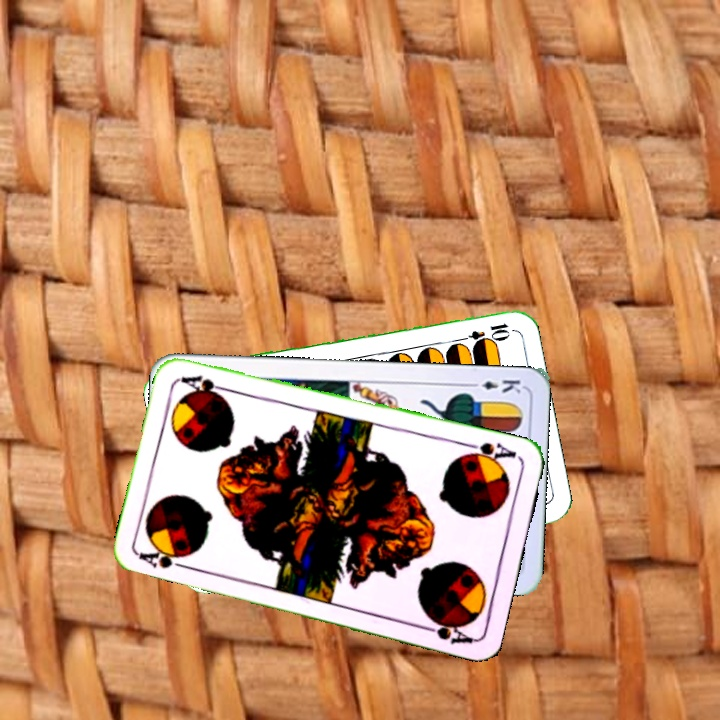E10: (453, 319, 512, 346)
EK: (465, 375, 524, 396)
SA: (459, 438, 519, 467), (135, 547, 194, 573)
